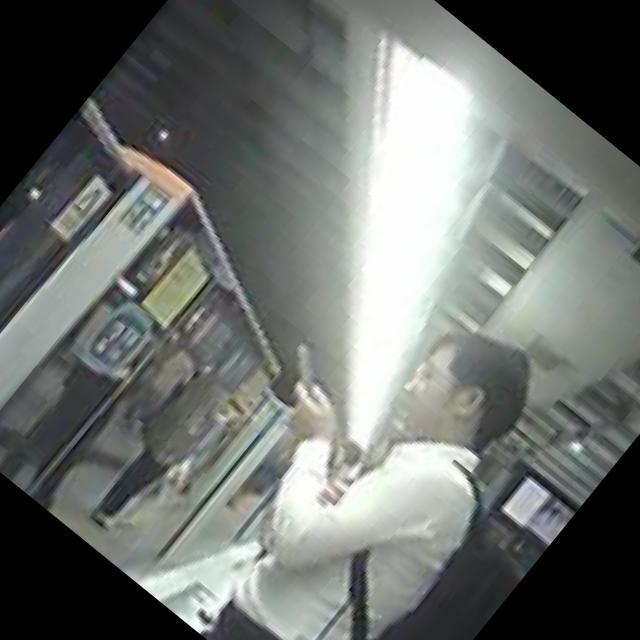person: (147, 262, 586, 640), (75, 359, 248, 550)
